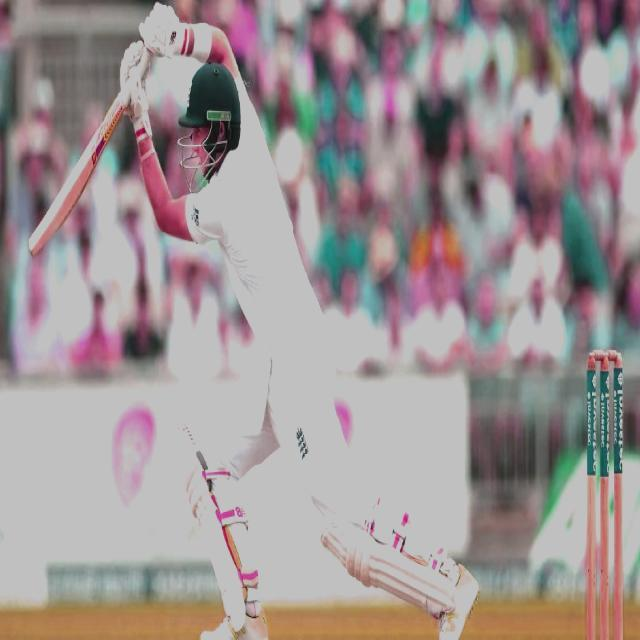bat: (24, 79, 130, 268)
toe: (25, 229, 43, 261)
